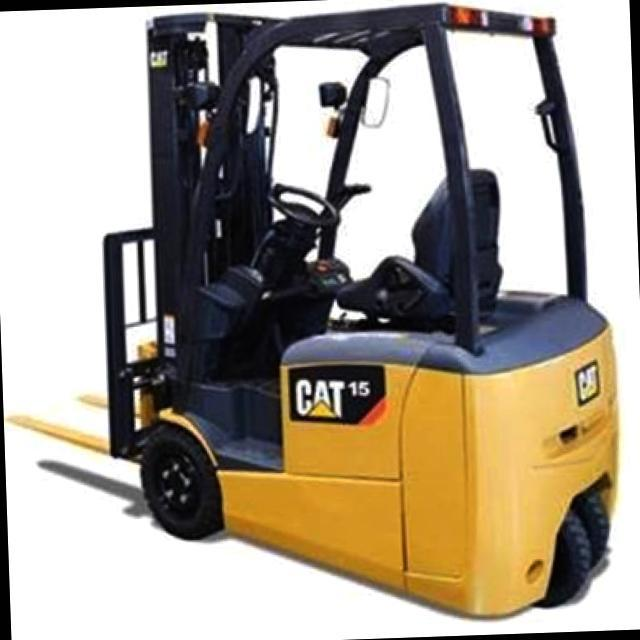forklift: (86, 0, 634, 633)
